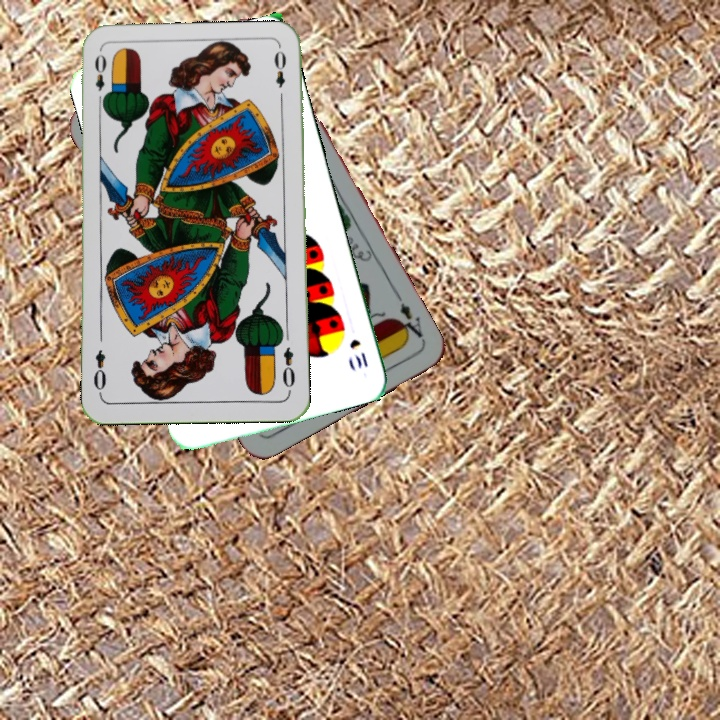EA: (392, 299, 427, 344)
EO: (90, 50, 111, 108), (278, 343, 298, 390)
S10: (345, 335, 371, 371)
